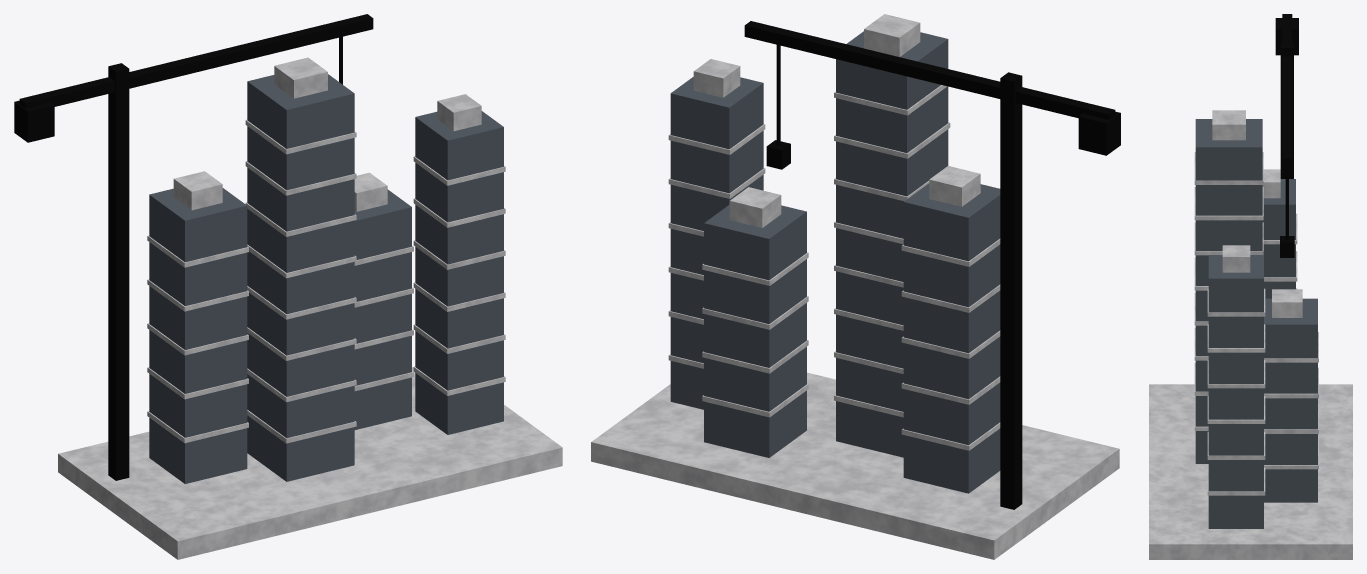
Rendered from bld.glb.
The picture shows the model from 3 angles, left to right: view 1: azimuth 30°, elevation 25°; view 2: azimuth 150°, elevation 25°; view 3: azimuth 270°, elevation 25°; orthographic projection. The views are drawn at different scales.
Visible parts, largest first — view 1: mx_bld; view 2: mx_bld; view 3: mx_bld.
Boxes of the visible parts, left/top/right/bottom form: mx_bld: left=14, top=14, right=562, bottom=559; mx_bld: left=591, top=14, right=1120, bottom=559; mx_bld: left=1149, top=14, right=1352, bottom=559.
Bounding box in the file's own units: 2 × 1.77 × 0.9003.
Materials: 1 (1 with a texture image).
